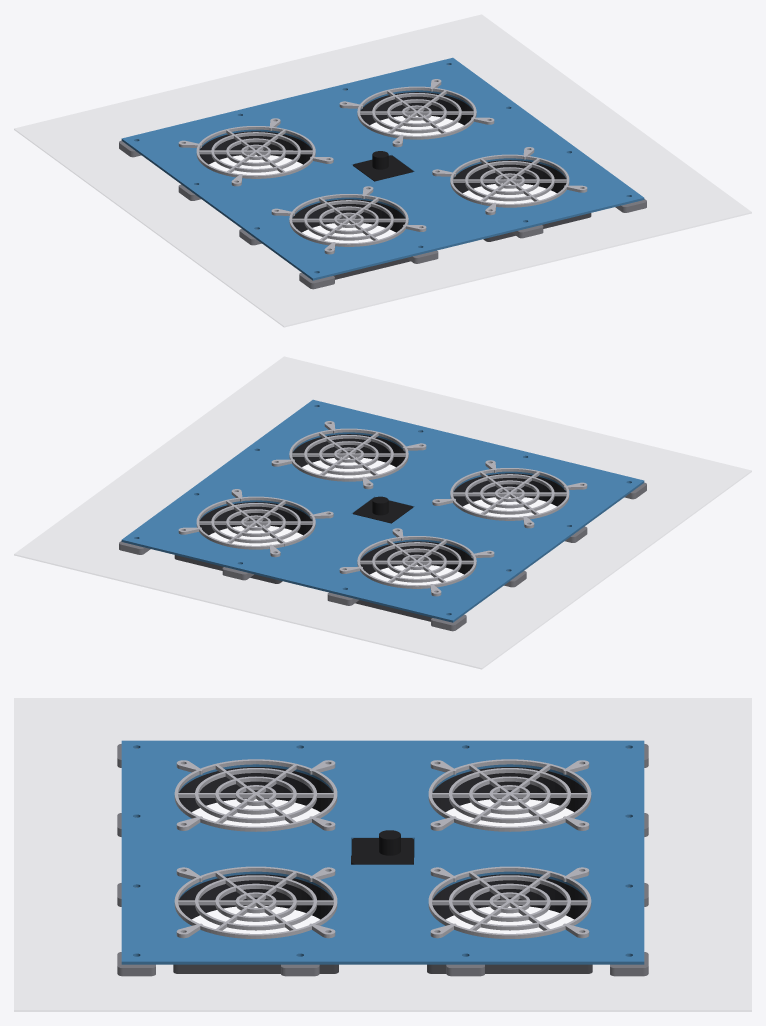
The model's file is top-fan.e92dabab.glb.
3 views of the same model, one above another, from view 1: azimuth 30°, elevation 25°; view 2: azimuth 150°, elevation 25°; view 3: azimuth 270°, elevation 25° (orthographic). The views are drawn at different scales.
Visible parts, largest first — view 1: sheet, frame, guards, fans, clamps, controller; view 2: sheet, frame, guards, fans, clamps, controller; view 3: sheet, frame, guards, fans, clamps, controller.
Boxes of the visible parts, <box> form: sheet: <box>14,15,751,326</box>; frame: <box>121,57,644,280</box>; guards: <box>178,79,587,254</box>; fans: <box>199,92,591,279</box>; clamps: <box>119,65,646,289</box>; controller: <box>353,151,412,181</box>; sheet: <box>14,357,751,668</box>; frame: <box>121,399,644,622</box>; guards: <box>178,421,587,596</box>; fans: <box>174,434,566,621</box>; clamps: <box>119,407,646,631</box>; controller: <box>353,496,412,523</box>; sheet: <box>14,698,751,1011</box>; frame: <box>121,740,644,964</box>; guards: <box>174,759,591,938</box>; fans: <box>173,767,592,973</box>; clamps: <box>117,744,648,976</box>; controller: <box>351,830,413,864</box>.
Size of the model in its own units: 535 by 40.49 by 535.
